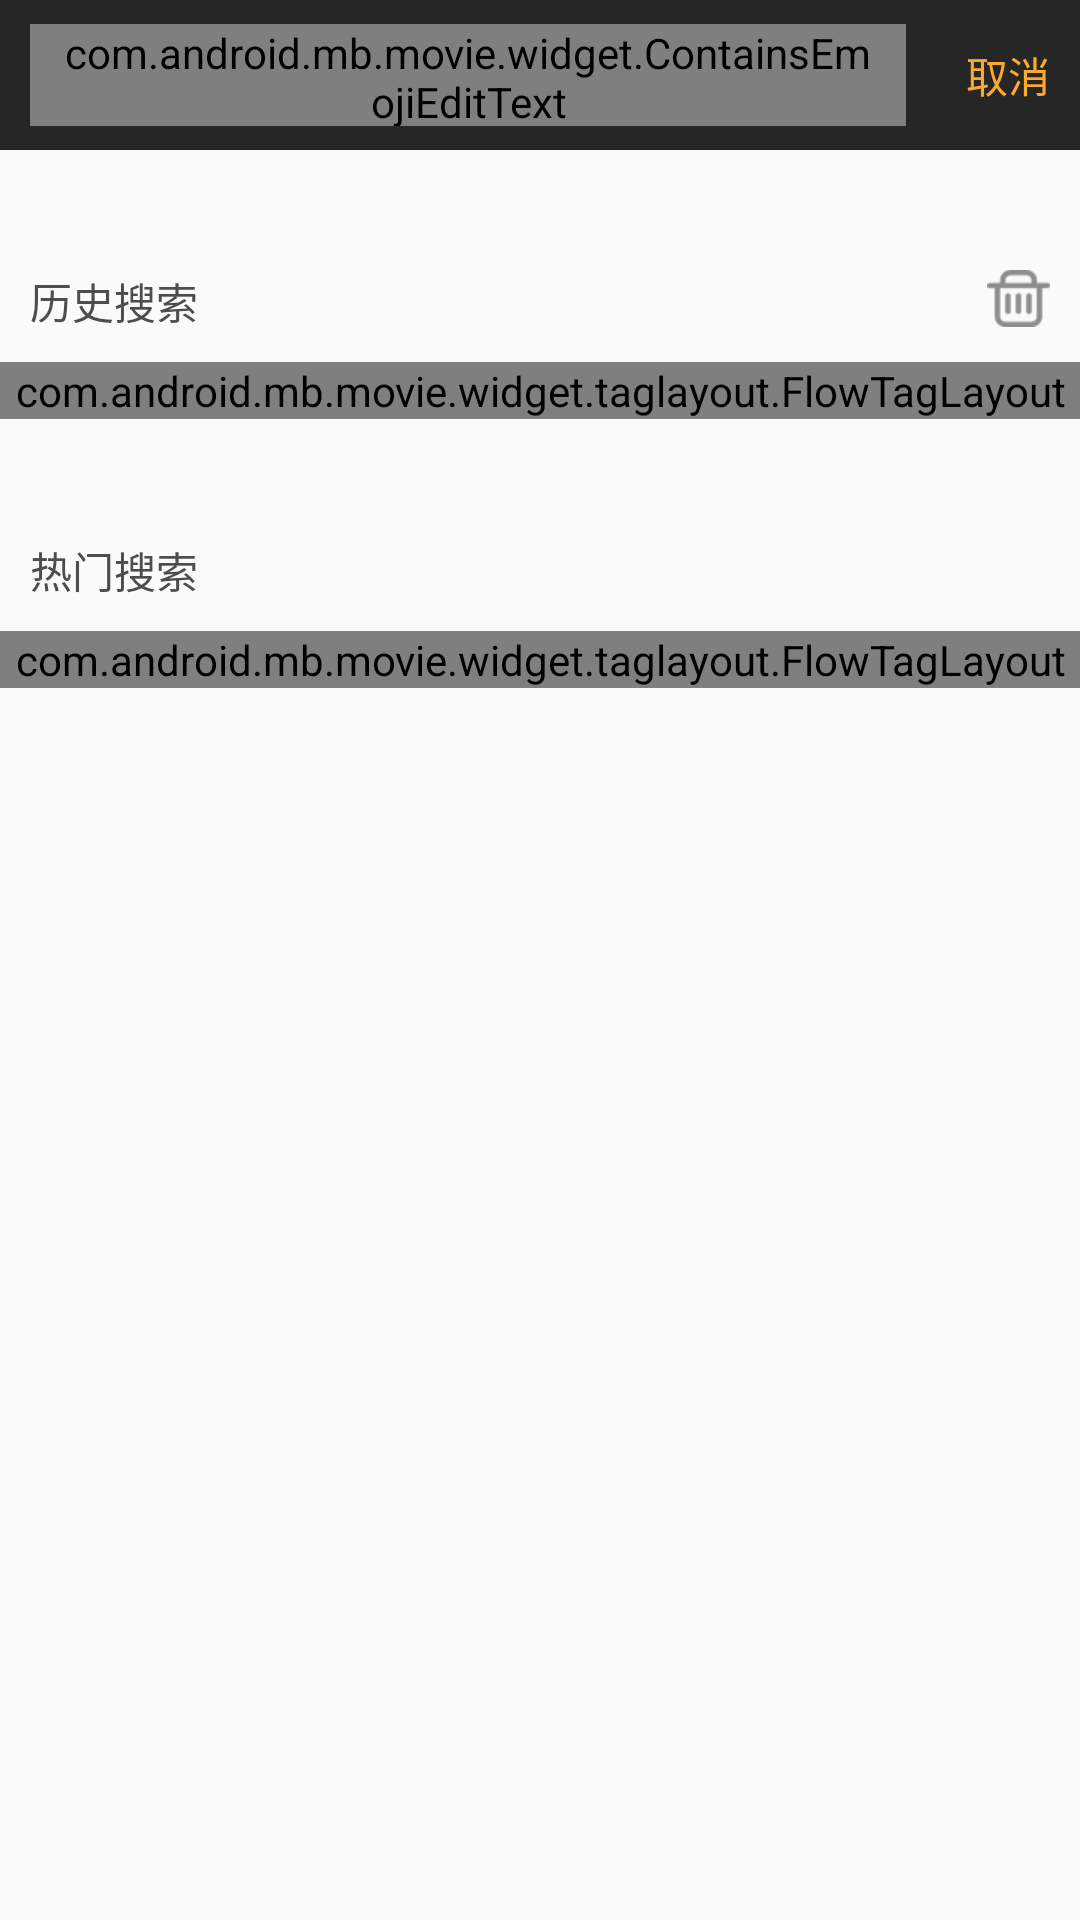

Screen size 1080px×1920px. Icon name, then its box in pixels as bbox=(x1, y1, x2, y2):
delete: bbox=(987, 270, 1050, 327)
